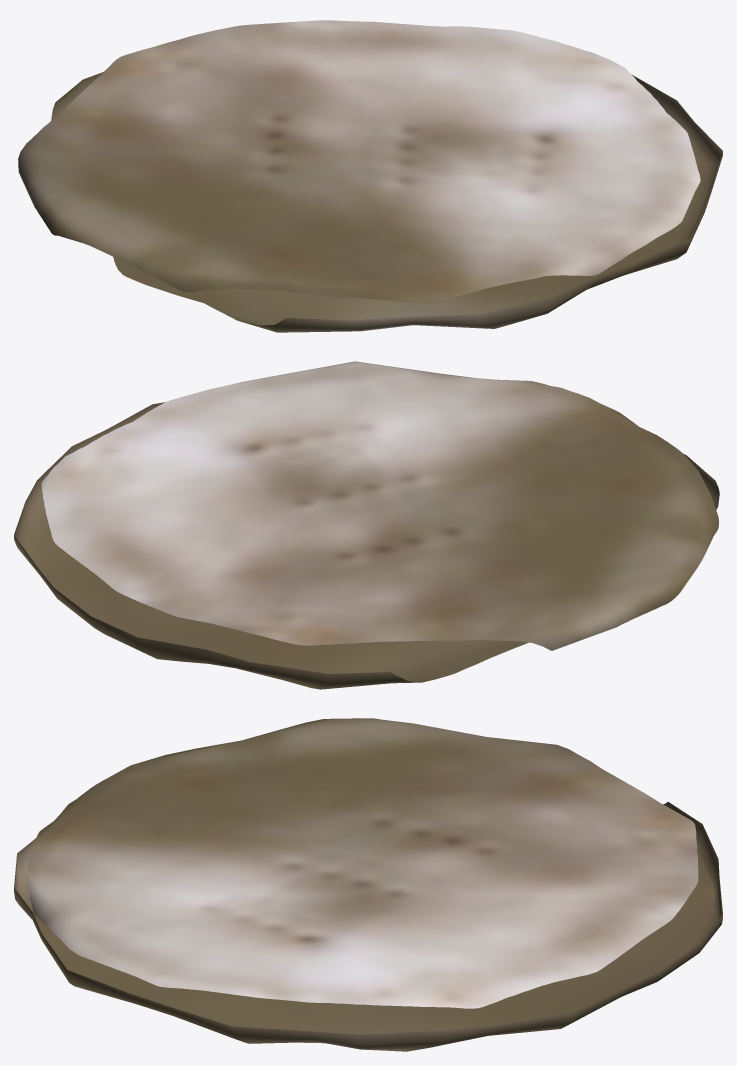
Rendered from AL_Coyotas.fbx.
3 renders of one model, top to bottom at view 1: azimuth 30°, elevation 25°; view 2: azimuth 150°, elevation 25°; view 3: azimuth 270°, elevation 25°, orthographic.
Parts seen in each view (by area): view 1: Circle; view 2: Circle; view 3: Circle.
Part boxes in pixels (left/top/right/bottom): Circle: left=18, top=20, right=722, bottom=332; Circle: left=14, top=361, right=719, bottom=689; Circle: left=14, top=718, right=722, bottom=1051.
Size of the model in its own units: 0.3091 by 0.0214 by 0.313.
